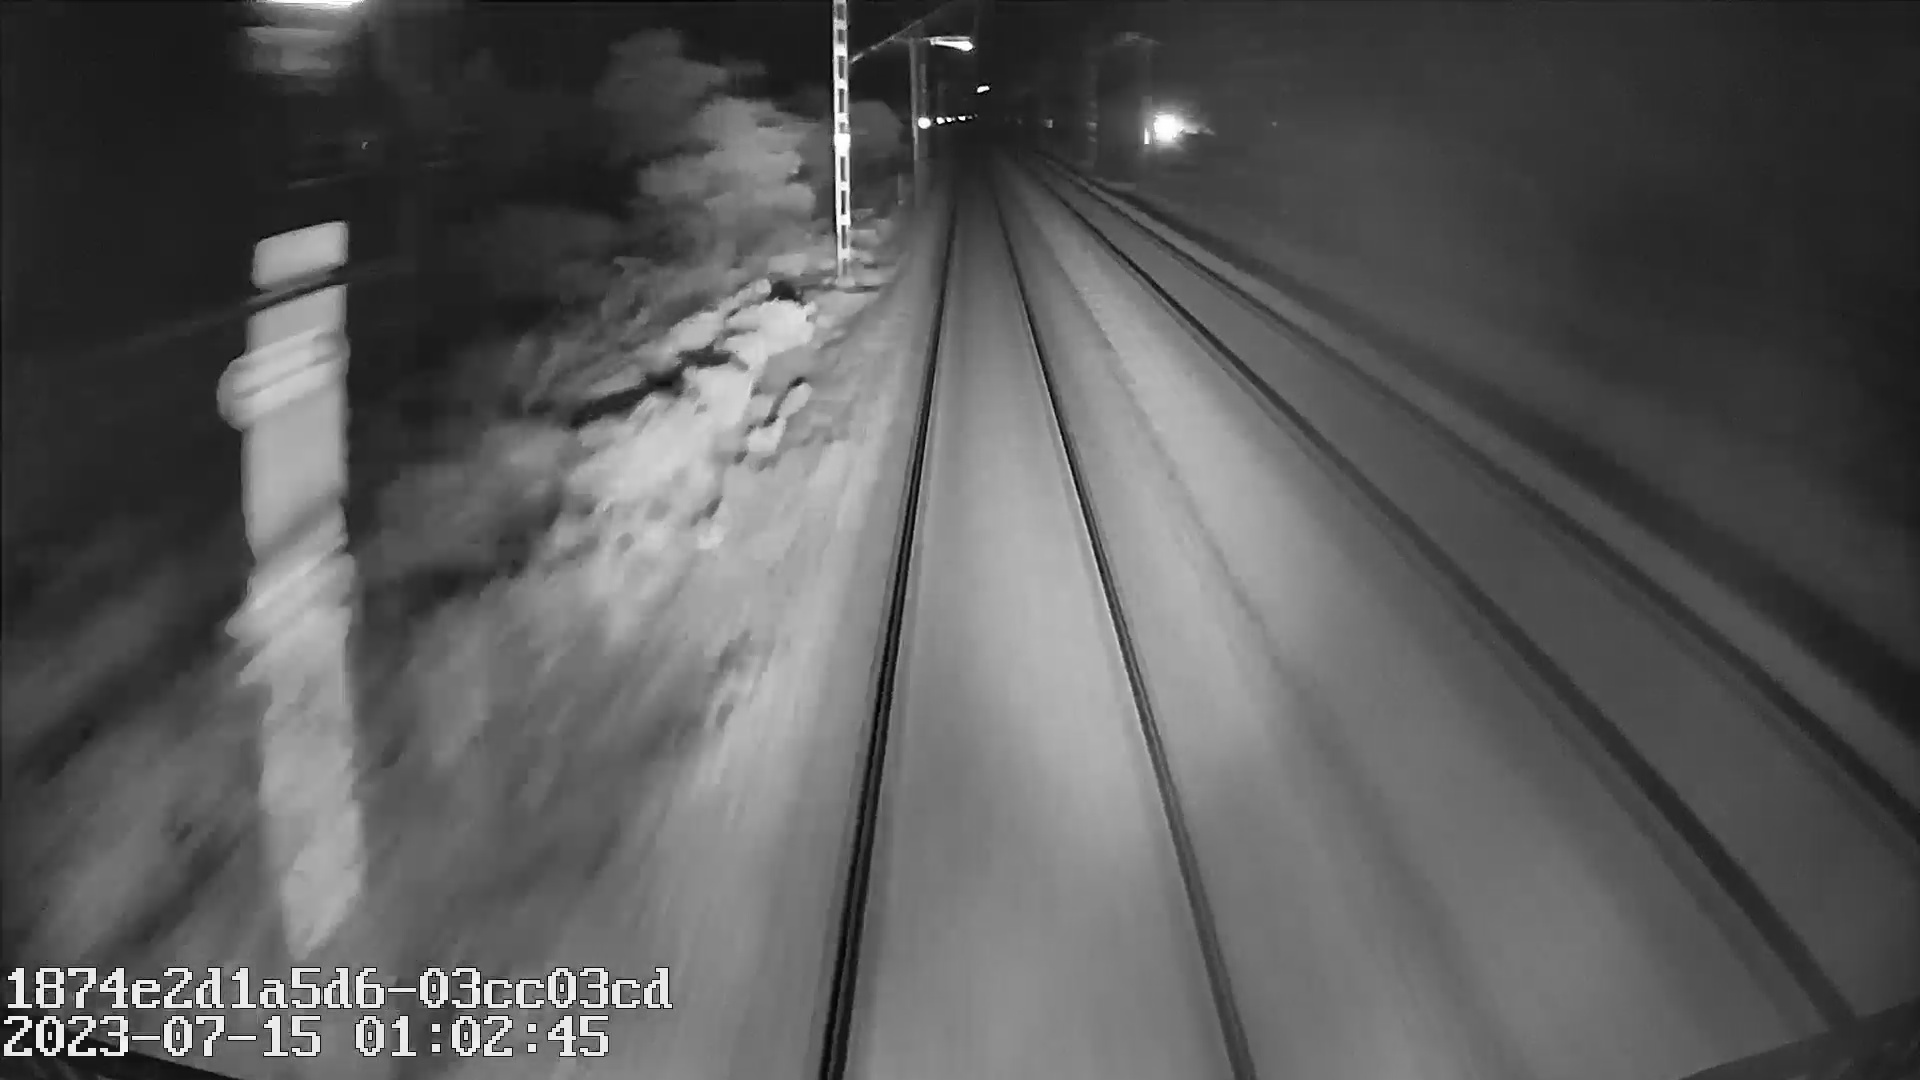track1: (836, 196, 1239, 1055)
track2: (1084, 216, 1898, 938)
